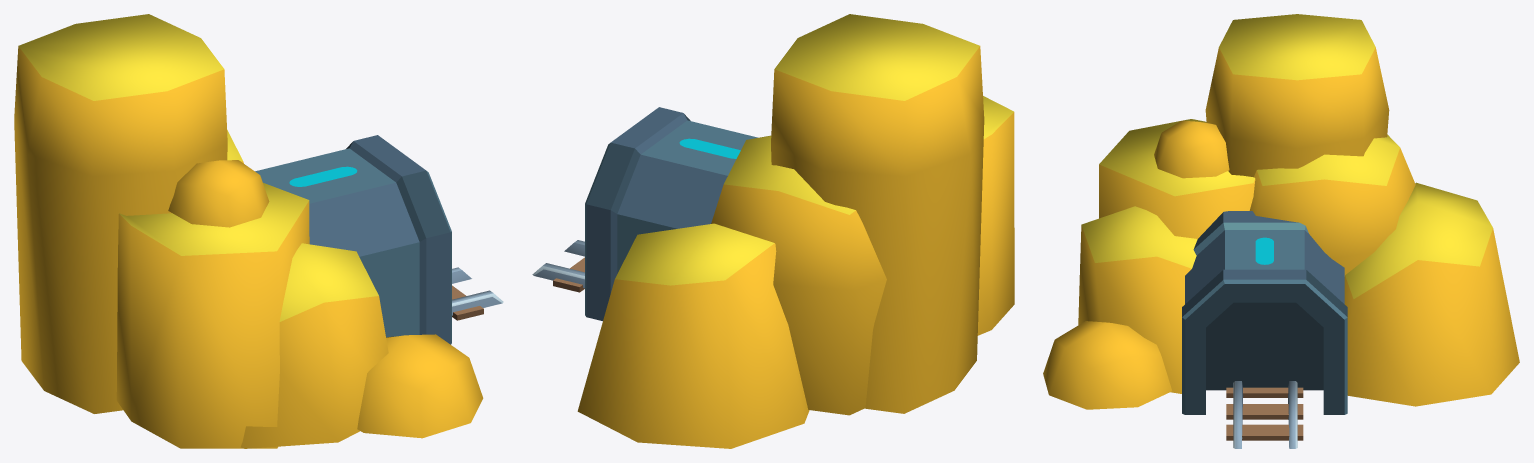
Rendered from Buildings_5.fbx.
3 views of the same model, side by side, from view 1: azimuth 30°, elevation 25°; view 2: azimuth 150°, elevation 25°; view 3: azimuth 270°, elevation 25° (orthographic). The views are drawn at different scales.
Parts seen in each view (by area): view 1: Buildings.004; view 2: Buildings.004; view 3: Buildings.004.
Part boxes in pixels (bbox=[...]): Buildings.004: bbox=[14, 14, 503, 448]; Buildings.004: bbox=[532, 14, 1014, 448]; Buildings.004: bbox=[1043, 14, 1519, 448].
Size of the model in its own units: 553 by 609 by 380.
